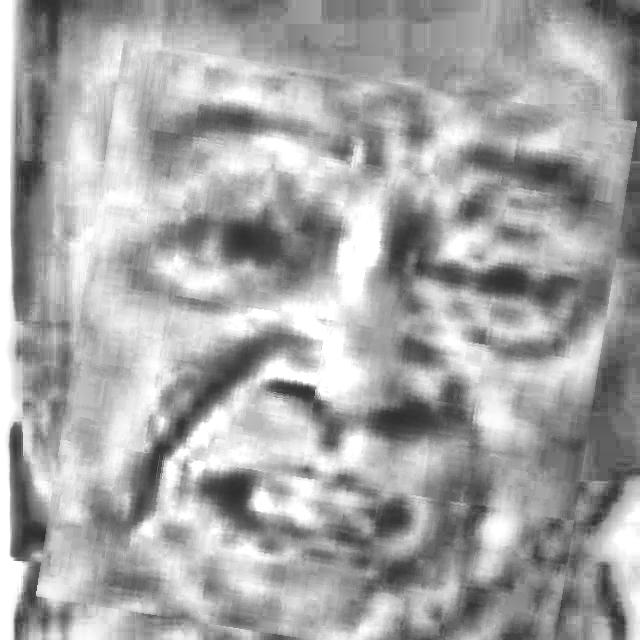angry: (56, 58, 617, 640)
